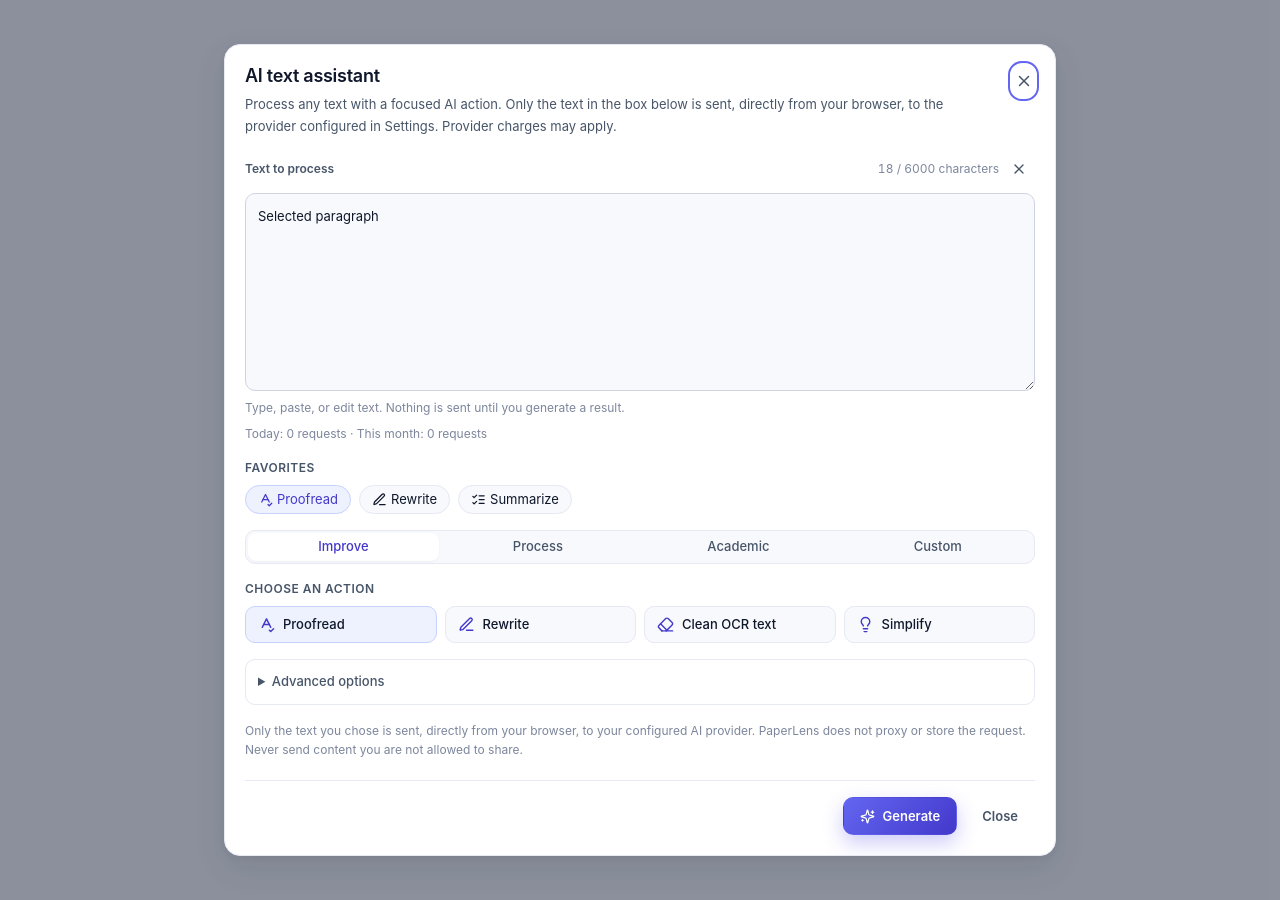
Test: AiAssistantDialog › sends manually typed text and blocks empty input
Click the button named "Clear text" at (1019, 169), box [1003,153,1035,185]
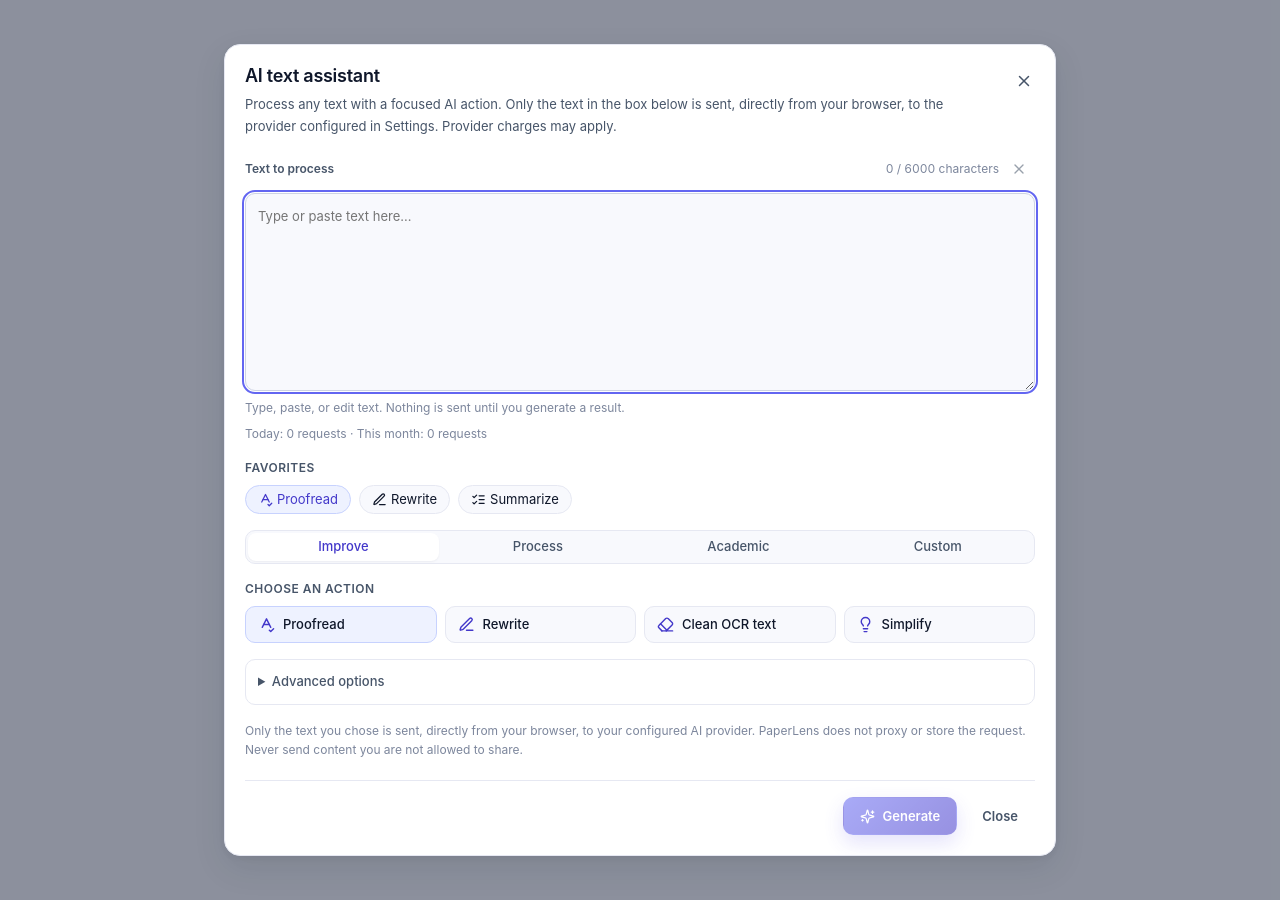
Result: the text box labelled "Text to process" is empty
Result: the text "0 / 6000 characters" is shown at [886,160,999,178]
Result: the button "Generate" is disabled at [842,797,957,835]
Type "Typed paragraph" into the text box labelled "Text to process" at (640, 292), box [245,193,1035,391]
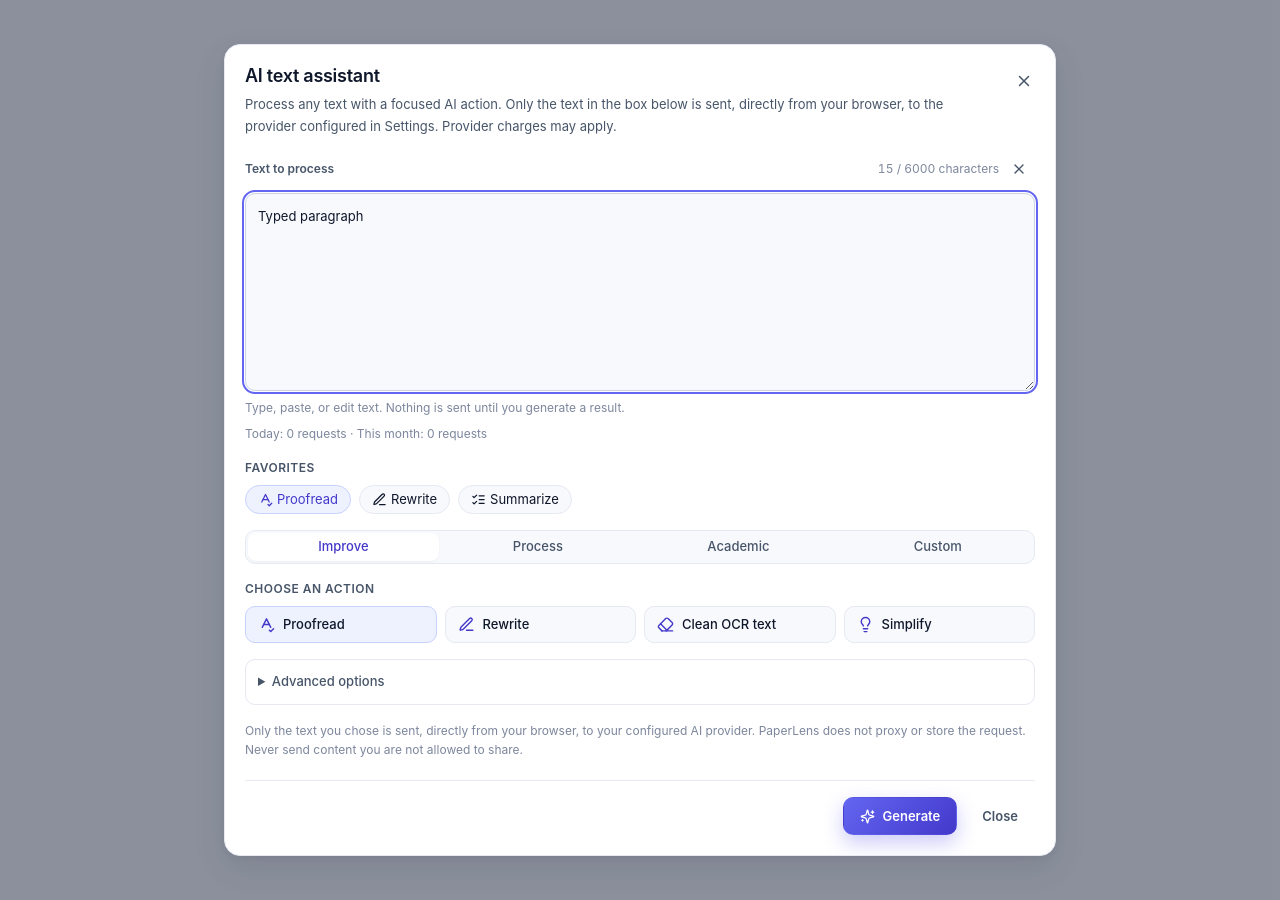
Result: the button "Generate" is enabled
Click the button "Generate" at (900, 816), box [842,797,957,835]
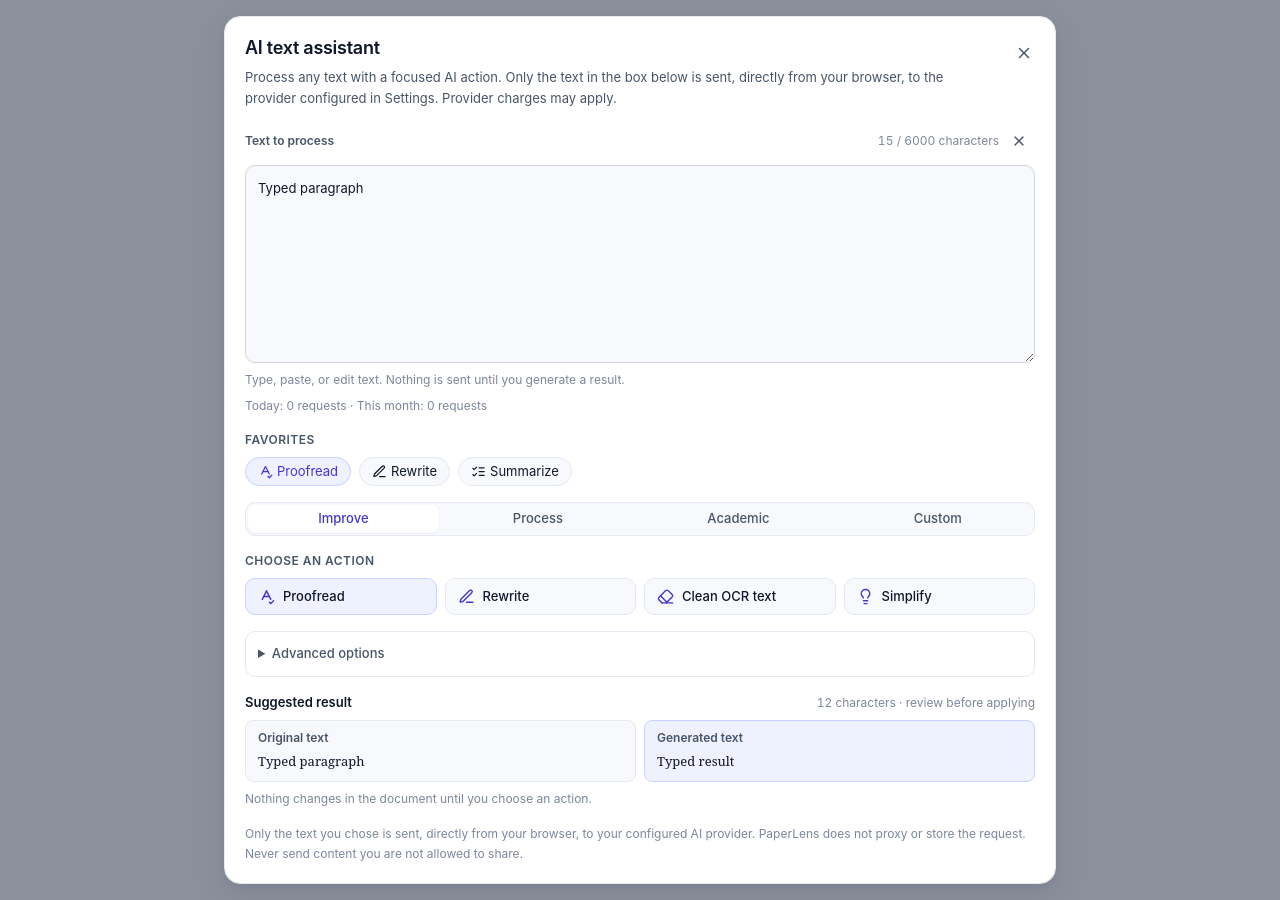
Result: the text "Typed result" is shown at [657,752,734,770]
